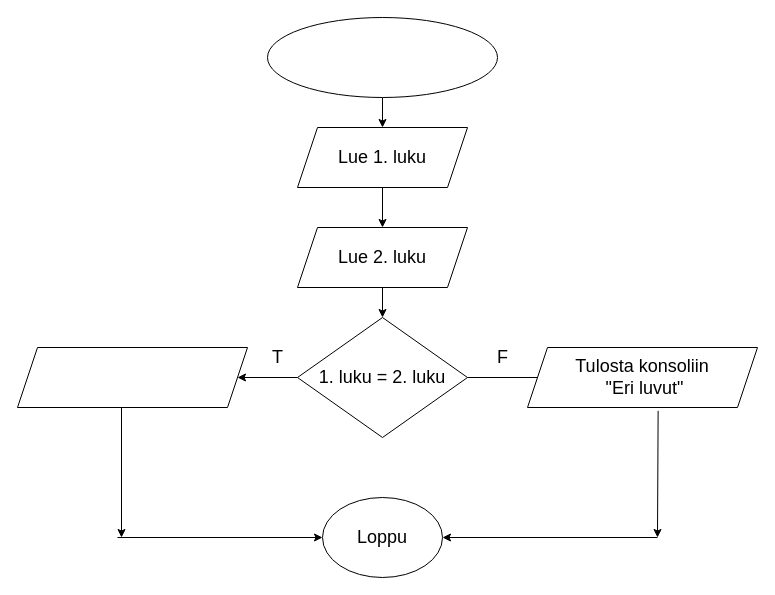
Image size: 775x595. Some labels were removed from this diagram. Here are the shapes that lost their labels. From the top down, the centre of each, then its label:
(x=382, y=57): Aloitus
(x=132, y=377): Tulosta konsoliin ( console.log ) "Samat"
